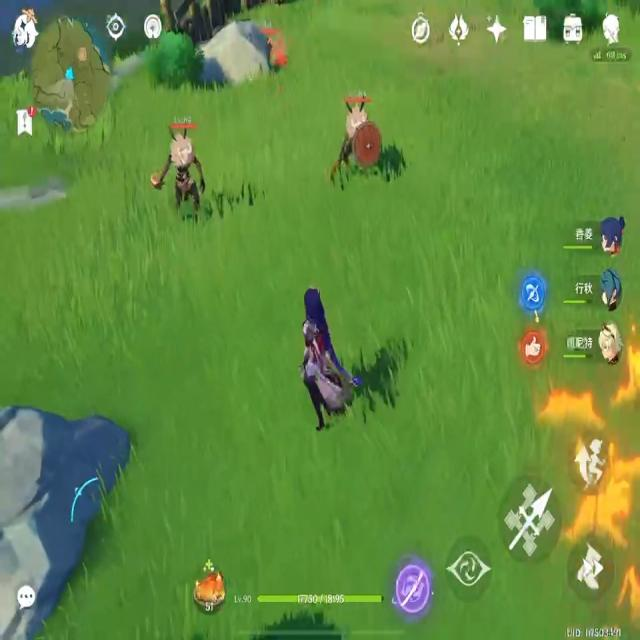genshin-hilichurls: (157, 121, 211, 223), (336, 98, 381, 190)
